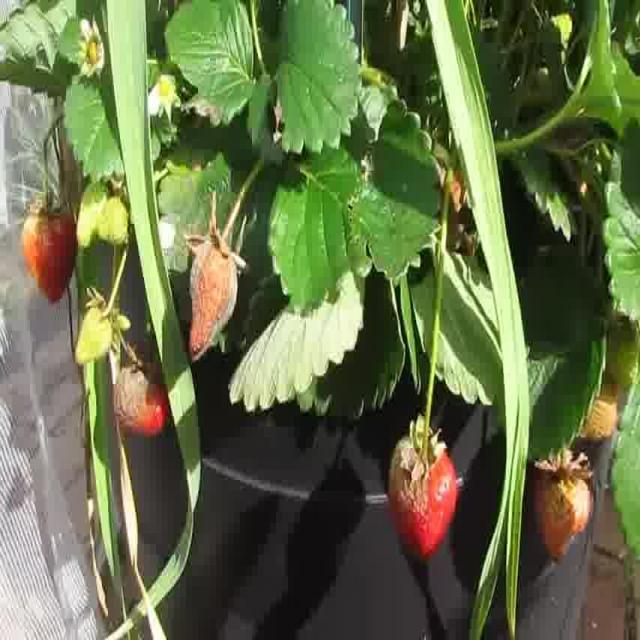Fruta sana: (533, 460, 595, 562), (22, 204, 78, 305), (566, 369, 618, 438), (603, 312, 640, 390), (88, 41, 99, 65), (160, 78, 170, 96)
Moho gris: (390, 436, 458, 560), (190, 234, 240, 363), (113, 361, 170, 435)
